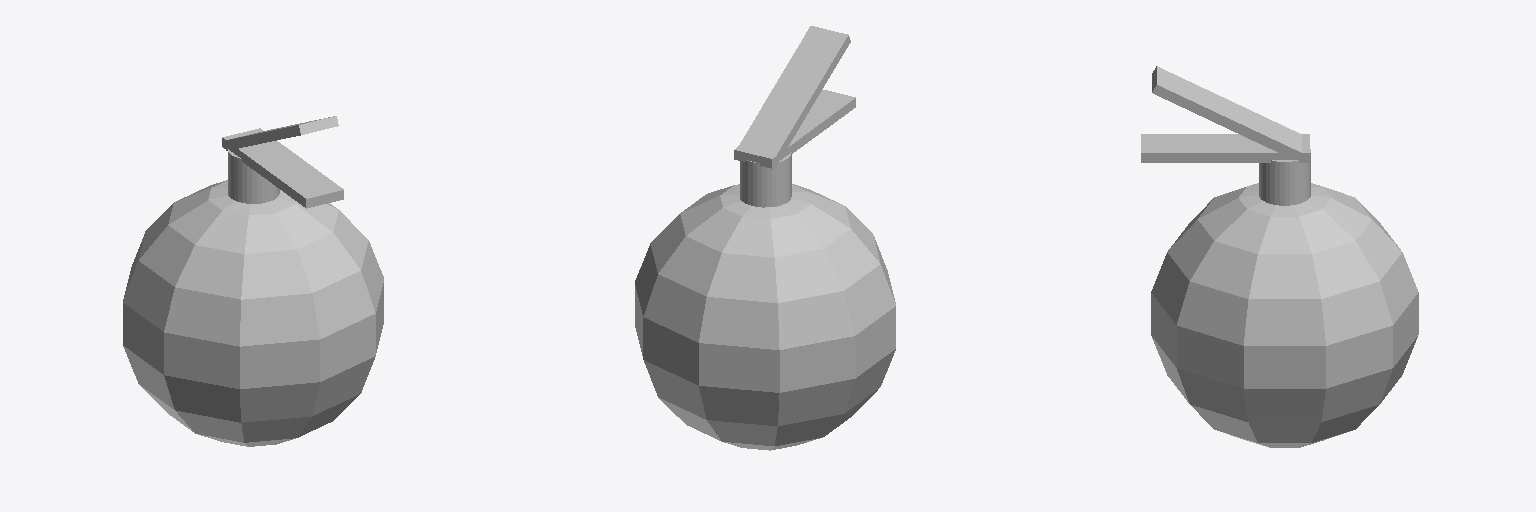
Rendered from sld.obj.
3 renders of one model, left to right at view 1: azimuth 30°, elevation 25°; view 2: azimuth 150°, elevation 25°; view 3: azimuth 270°, elevation 25°, orthographic.
Visible parts, largest first — view 1: 立方体.001; view 2: 立方体.001; view 3: 立方体.001.
Boxes of the visible parts, box(x1,y1,x2,y2) form: 立方体.001: box(123, 116, 383, 446); 立方体.001: box(635, 26, 895, 450); 立方体.001: box(1141, 66, 1418, 447).
Size of the model in its own units: 1.87 by 2.94 by 2.04.